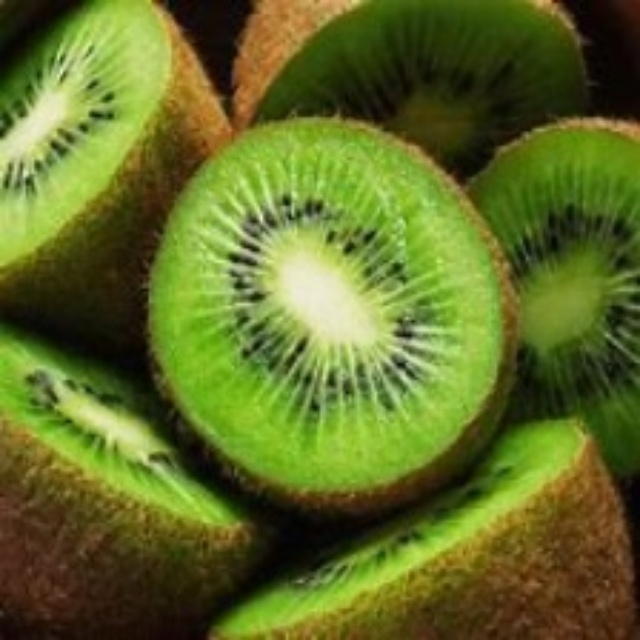kiwi: (147, 117, 508, 503), (249, 405, 637, 638), (9, 7, 227, 340), (5, 325, 237, 628), (465, 102, 639, 469), (224, 4, 593, 147)
